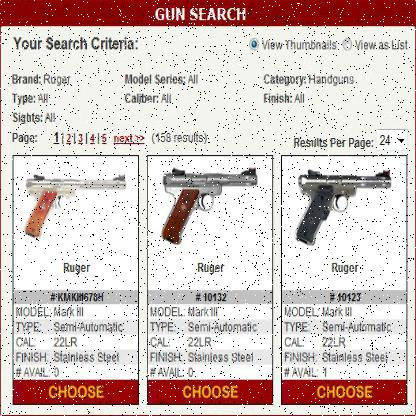pistol: (159, 168, 258, 244), (294, 170, 393, 244), (23, 173, 128, 237)
